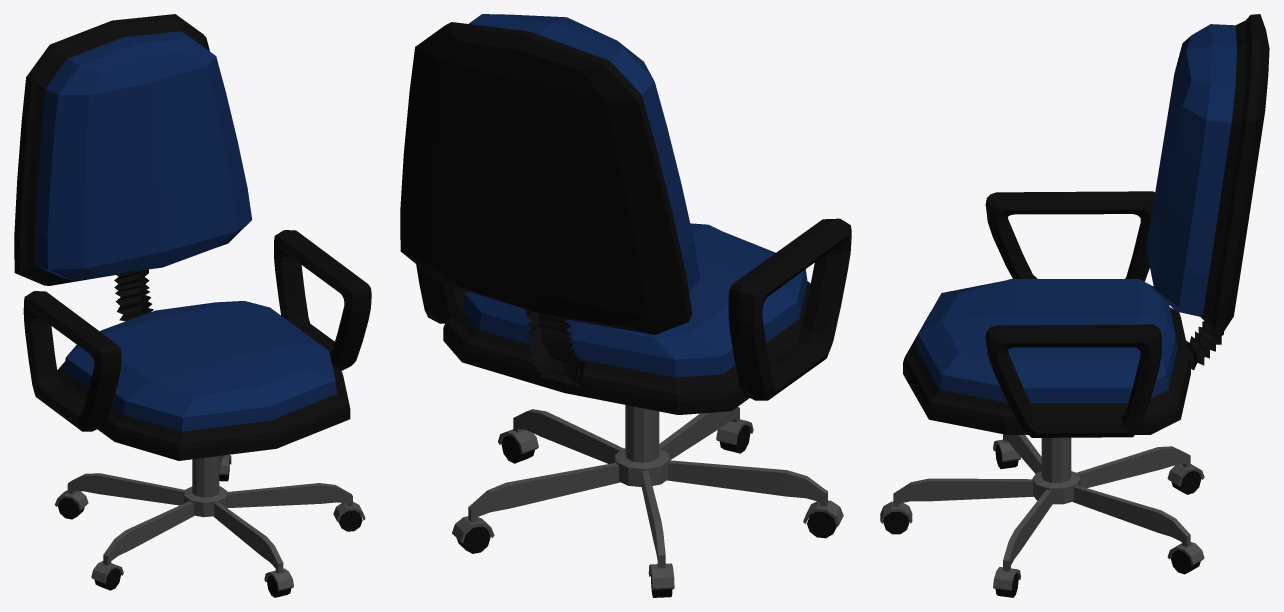
File: OfficeChair.obj
3 views of the same model, side by side, from view 1: azimuth 30°, elevation 25°; view 2: azimuth 150°, elevation 25°; view 3: azimuth 270°, elevation 25° (orthographic). The views are drawn at different scales.
Visible parts, largest first — view 1: OfficeChair_Cylinder.002; view 2: OfficeChair_Cylinder.002; view 3: OfficeChair_Cylinder.002.
Part boxes in pixels (x1=…): OfficeChair_Cylinder.002: x1=14, y1=14, x2=371, y2=597; OfficeChair_Cylinder.002: x1=400, y1=14, x2=851, y2=597; OfficeChair_Cylinder.002: x1=880, y1=14, x2=1269, y2=597.
Bounding box in the file's own units: 0.7217 × 1.13 × 0.8072.
